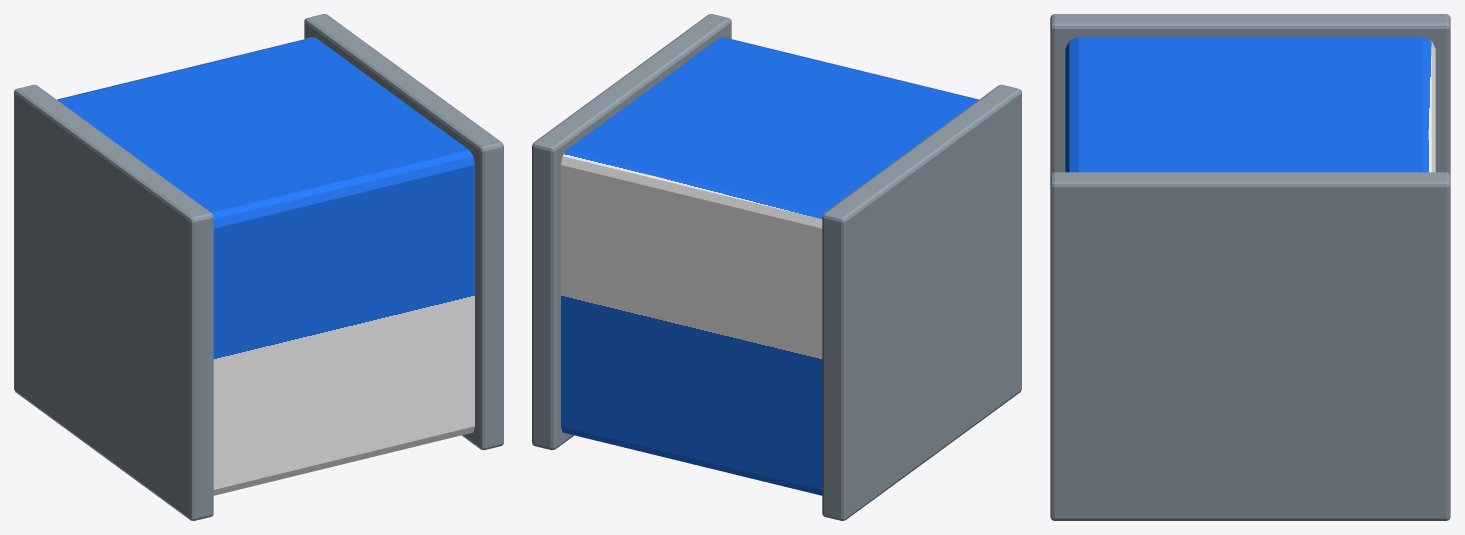
Rendered from LayeredCrate.gltf.
3 renders of one model, left to right at view 1: azimuth 30°, elevation 25°; view 2: azimuth 150°, elevation 25°; view 3: azimuth 270°, elevation 25°, orthographic. The views are drawn at different scales.
Visible parts, largest first — view 1: Wooden Crate, Crate Band, Crate Band.001; view 2: Wooden Crate, Crate Band, Crate Band.001; view 3: Crate Band.001, Wooden Crate, Crate Band.
Part boxes in pixels (left/top/right/bottom): Wooden Crate: left=57, top=37, right=474, bottom=495; Crate Band: left=14, top=84, right=213, bottom=520; Crate Band.001: left=304, top=14, right=503, bottom=450; Wooden Crate: left=561, top=37, right=978, bottom=495; Crate Band: left=822, top=84, right=1021, bottom=520; Crate Band.001: left=532, top=14, right=731, bottom=450; Crate Band.001: left=1050, top=172, right=1450, bottom=520; Wooden Crate: left=1065, top=37, right=1435, bottom=172; Crate Band: left=1050, top=14, right=1450, bottom=175.
Size of the model in its own units: 0.93 by 0.86 by 0.92.
Materials: 2 (1 with a texture image).
